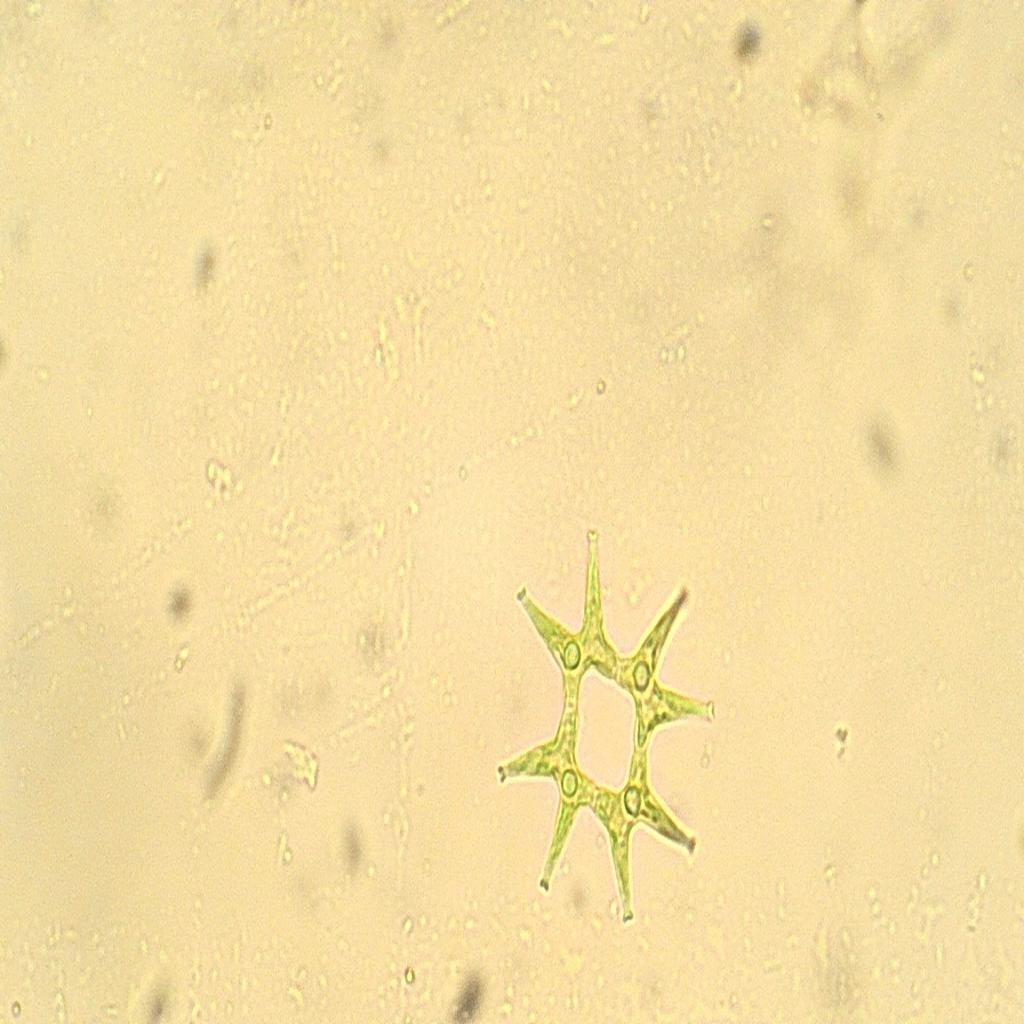Pediastrum_CO: (470, 516, 747, 938)
